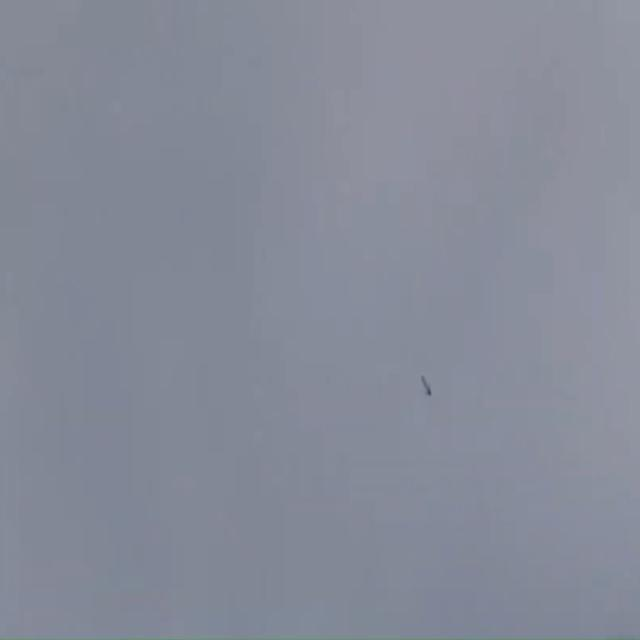Rocket: (420, 374, 432, 397)
